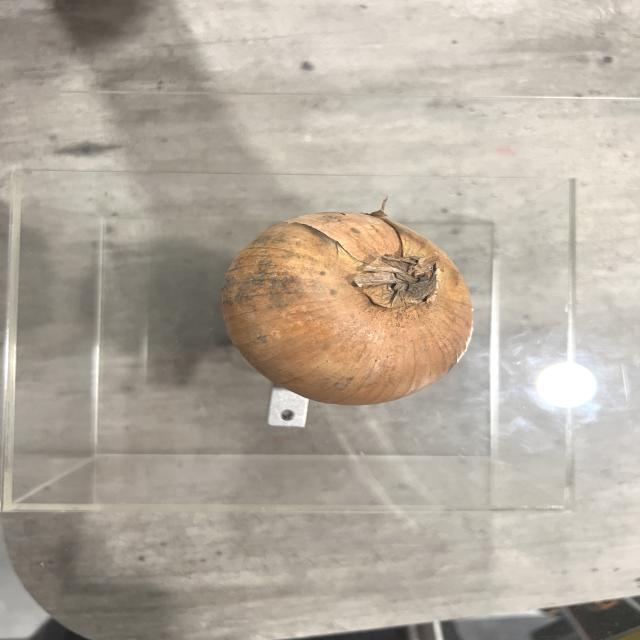onion: (213, 207, 474, 402)
